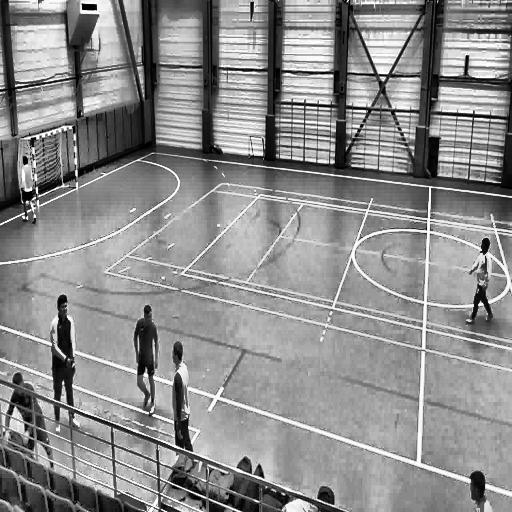player: (49, 290, 83, 437), (133, 302, 159, 419), (465, 233, 497, 328), (170, 340, 195, 456), (19, 154, 38, 228)
